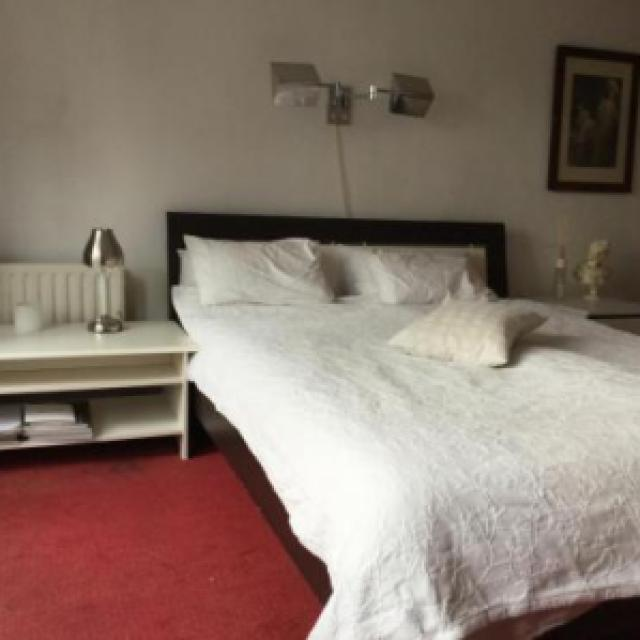Clean: (2, 0, 638, 640)
